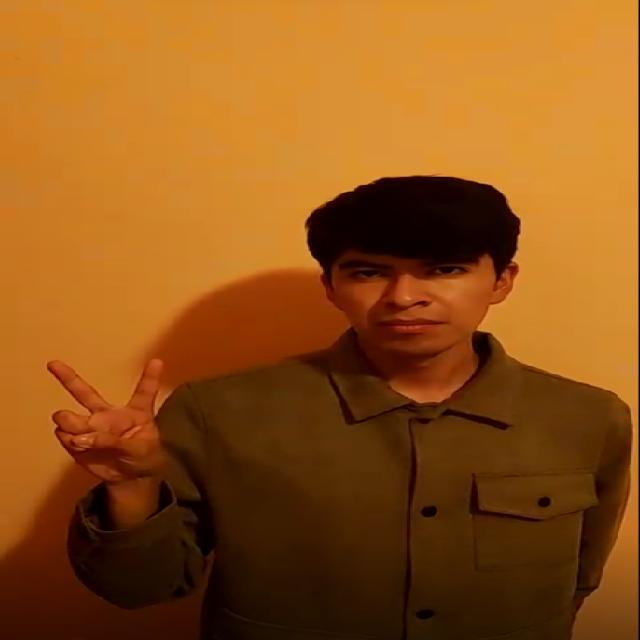V: (8, 336, 206, 508)
